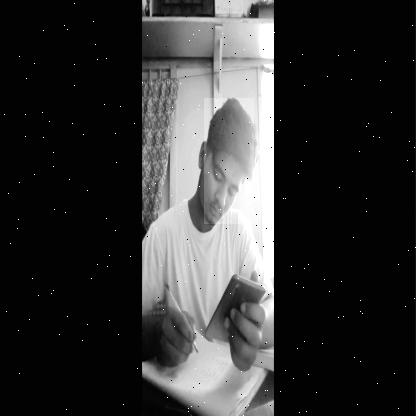Distracted: (204, 98, 254, 224)
